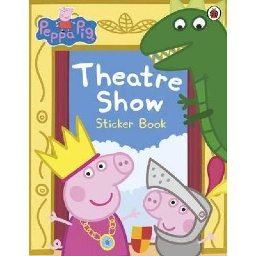Peppa: (34, 115, 134, 256)
